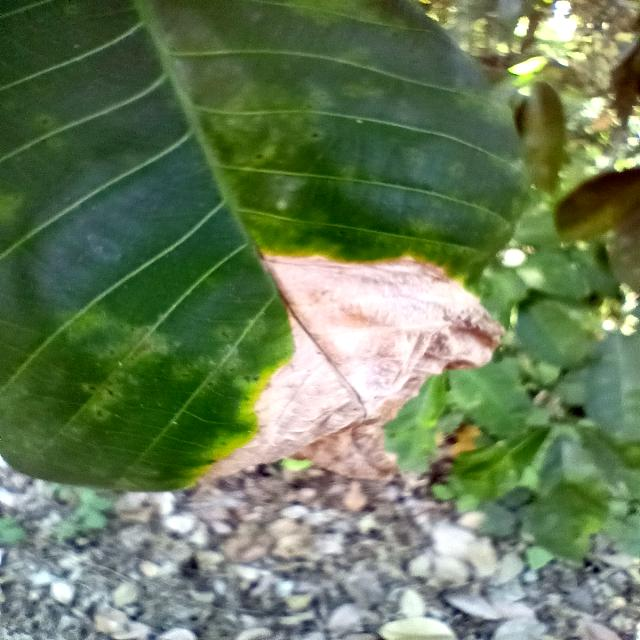Leaf-Blight: (201, 252, 508, 478)
